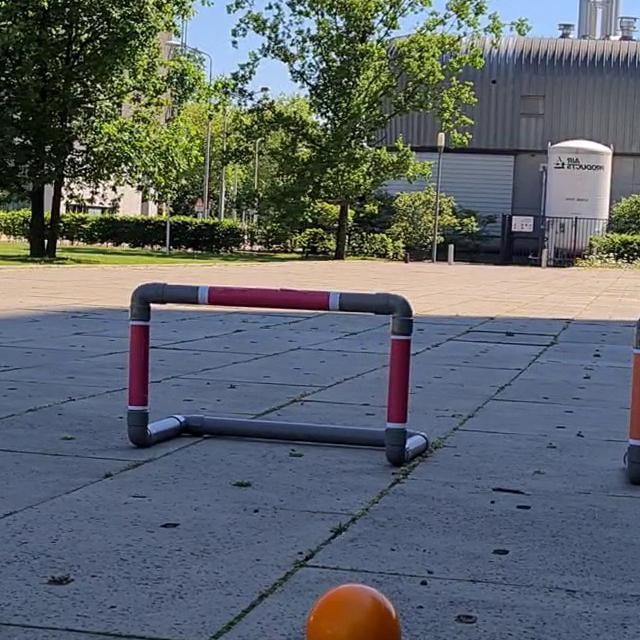ball: (302, 579, 404, 640)
